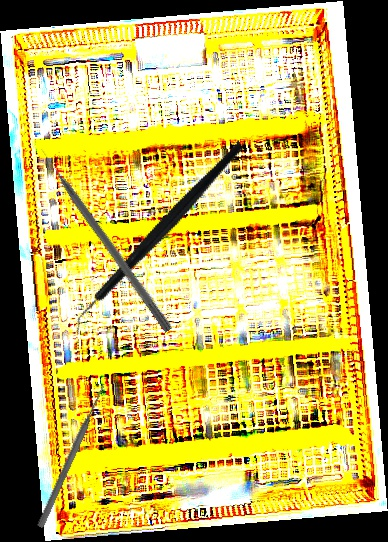Chopper: (31, 138, 288, 341)
Pusher: (37, 144, 175, 334), (35, 382, 109, 530)
